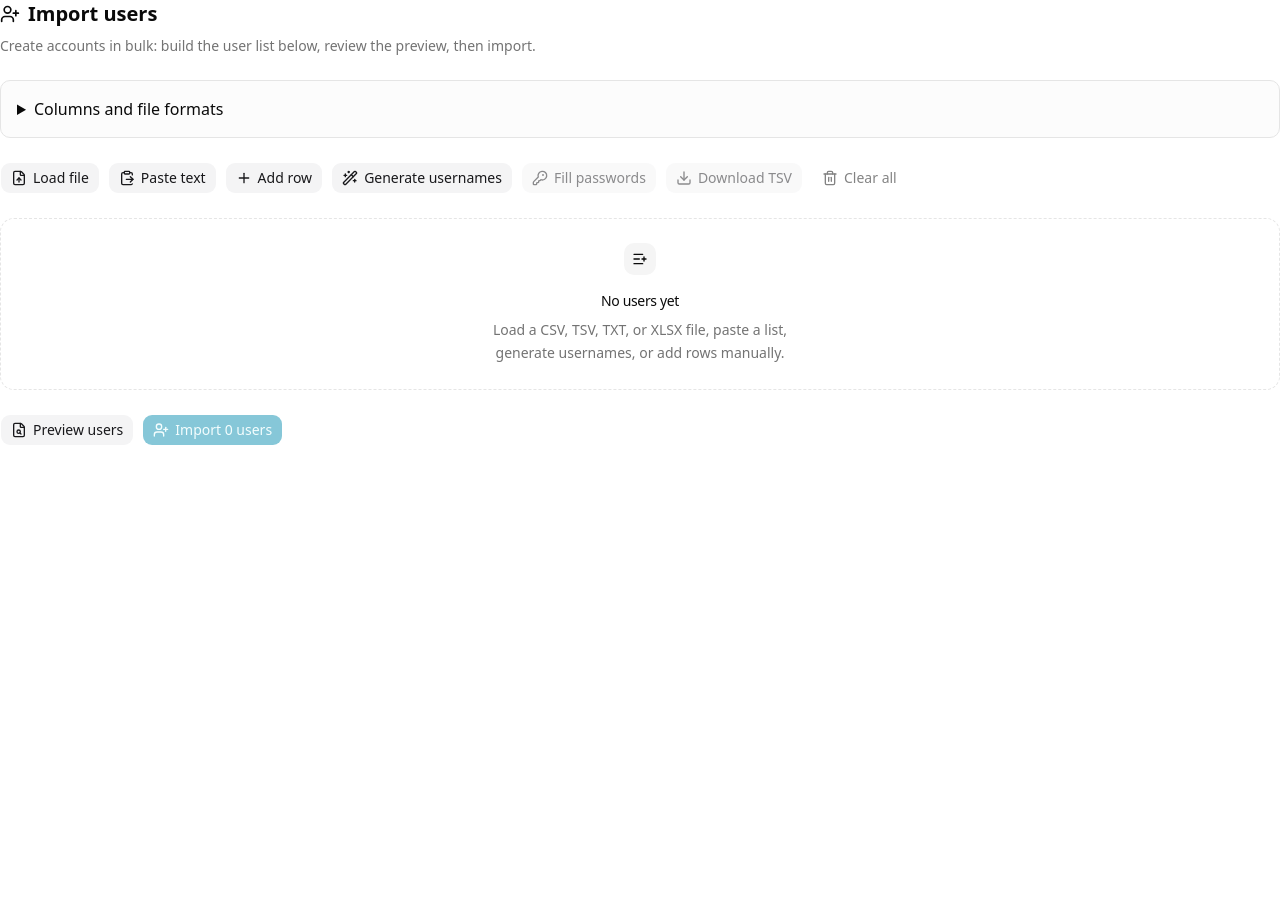
user import workflow › keeps the pasted text when the dialog is closed and reopened
Click the button "Paste text" at (162, 178), box [108, 162, 217, 194]
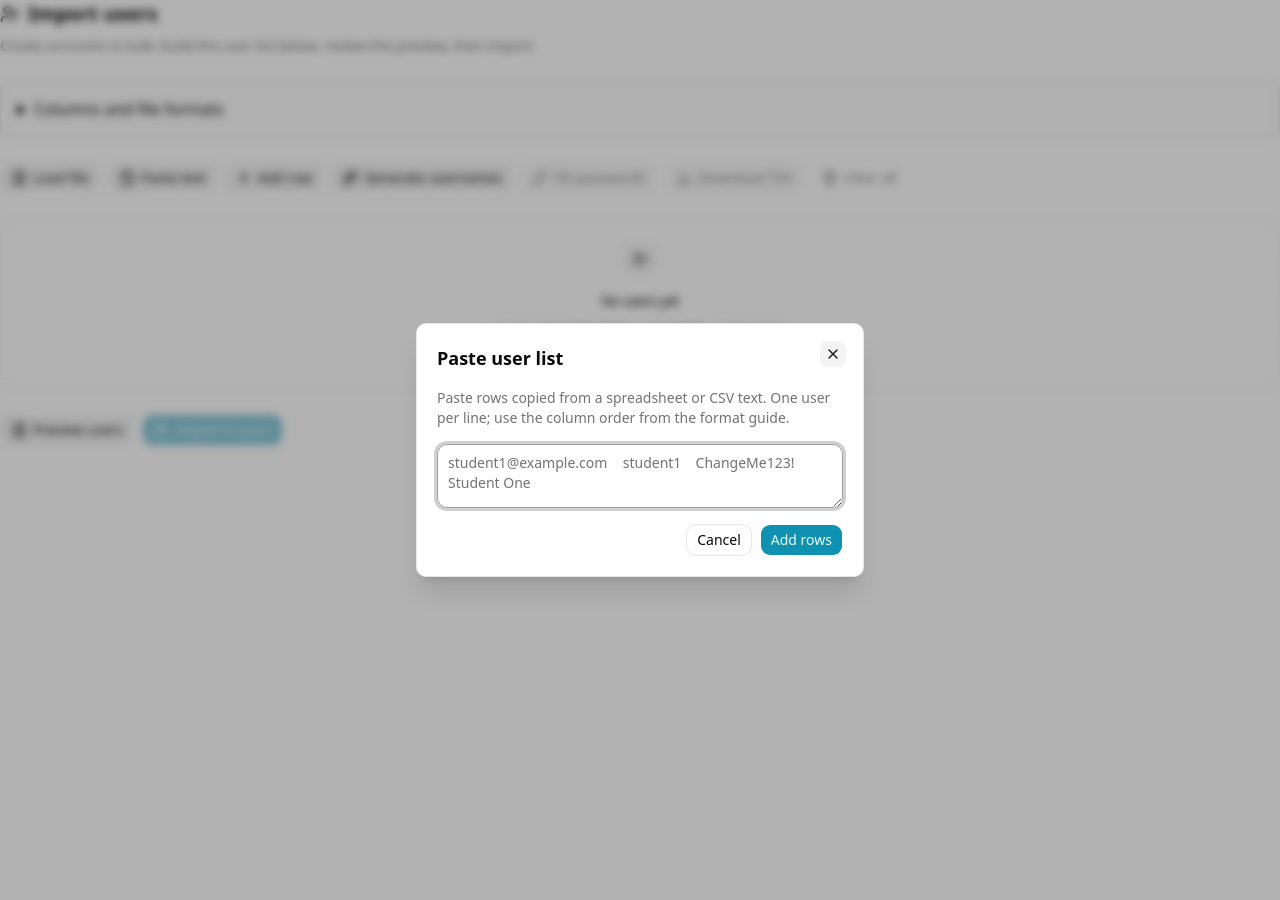
Type "alice" into the text box named "Paste user list" at (640, 476), box [437, 444, 843, 508]
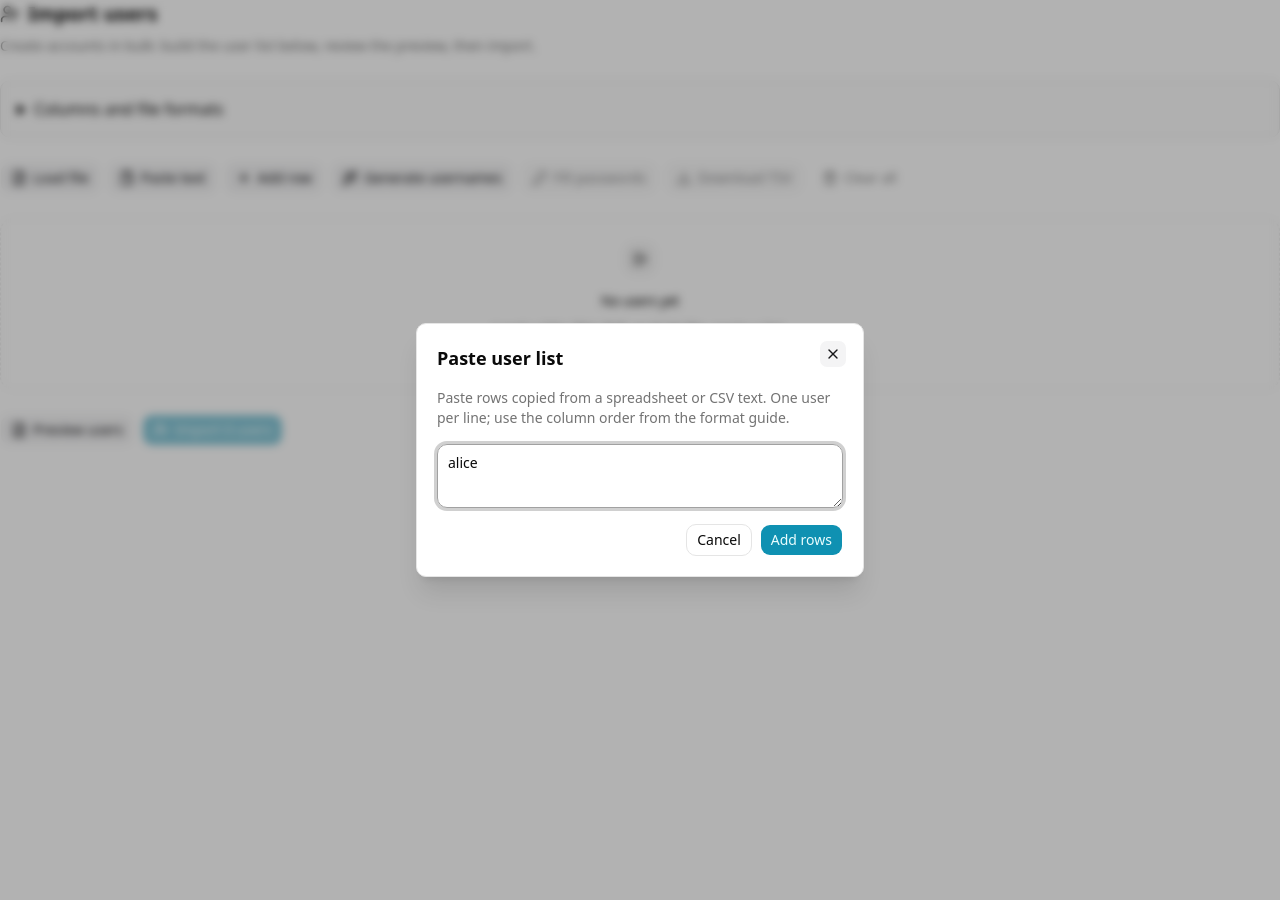
Click the button "Cancel" at (719, 540), box [686, 524, 752, 556]
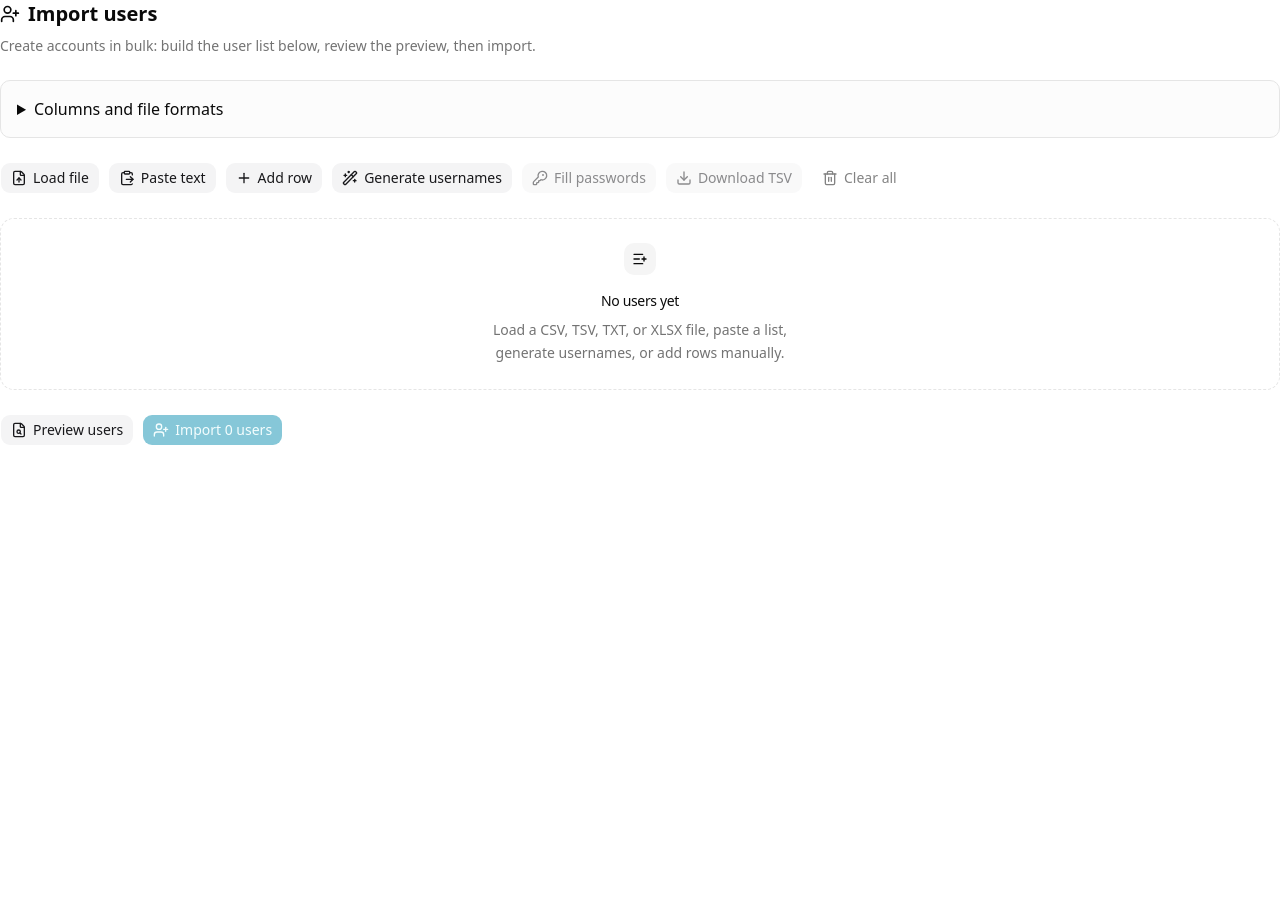
Expected: the dialog is gone
Click the button "Paste text" at (162, 178), box [108, 162, 217, 194]
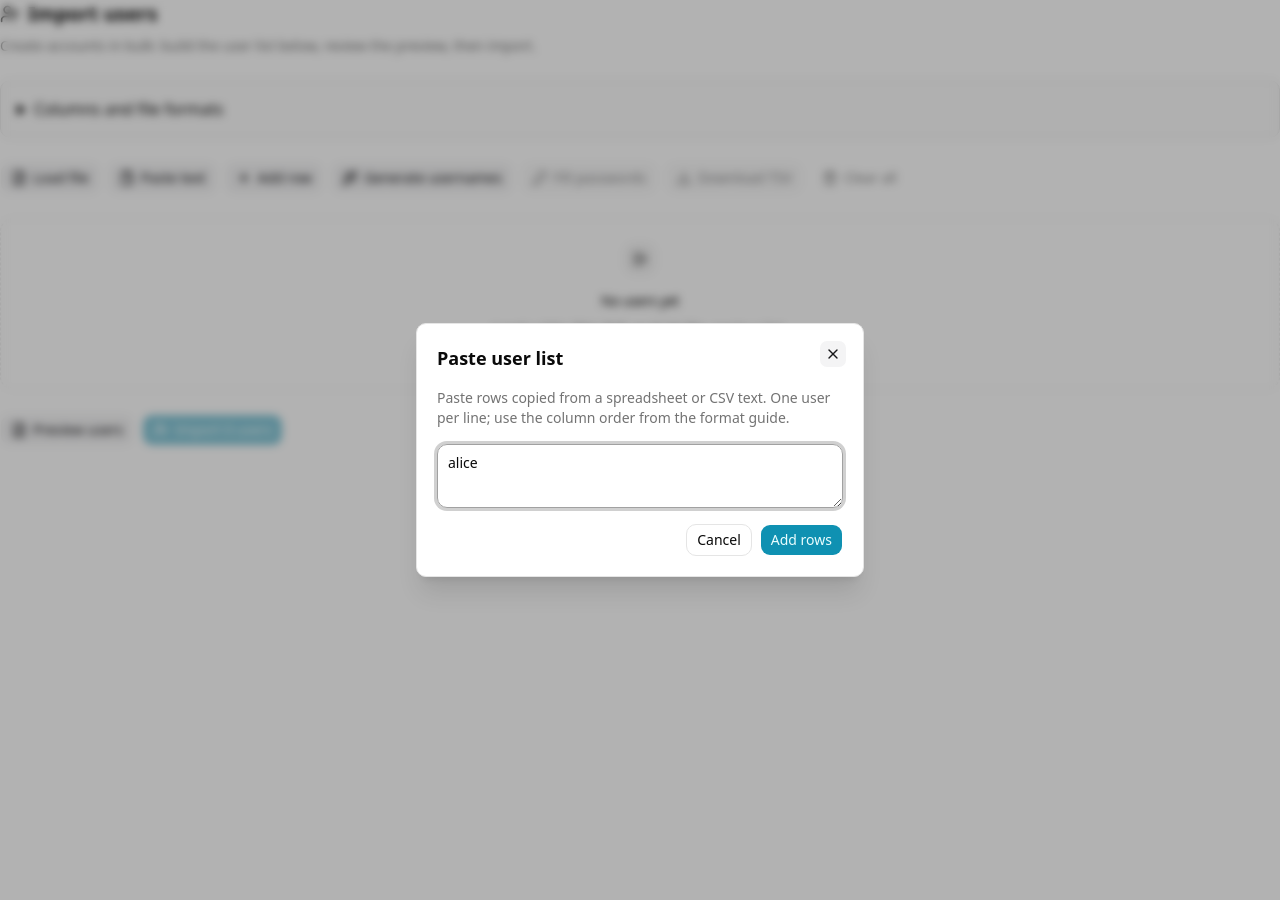
Expected: the text box named "Paste user list" holds "alice", [437, 444, 843, 508]
